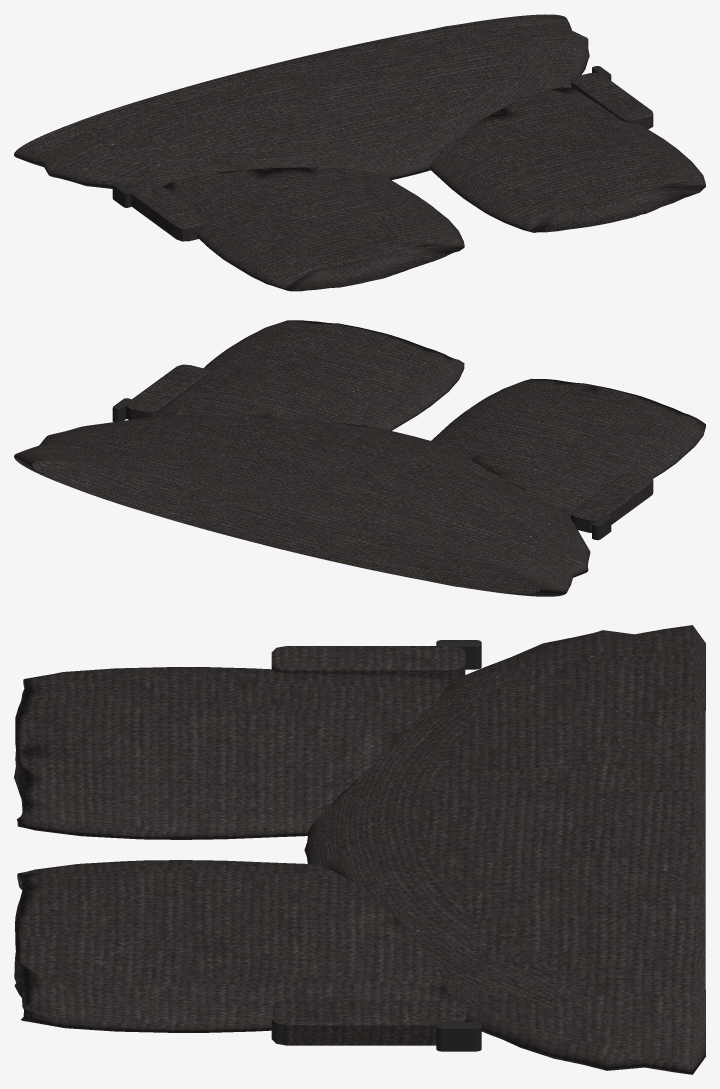
File: cargo1.fbx
3 views of the same model, one above another, from view 1: azimuth 30°, elevation 25°; view 2: azimuth 150°, elevation 25°; view 3: azimuth 270°, elevation 25° (orthographic). The views are drawn at different scales.
Parts seen in each view (by area): view 1: cargo1; view 2: cargo1; view 3: cargo1.
Boxes of the visible parts, x1=… form: cargo1: x1=14, y1=14, x2=705, y2=291; cargo1: x1=14, y1=320, x2=705, y2=596; cargo1: x1=14, y1=625, x2=705, y2=1074.
Bounding box in the file's own units: 0.8085 × 0.0744 × 0.5358.
Materials: 2 (1 with a texture image).
